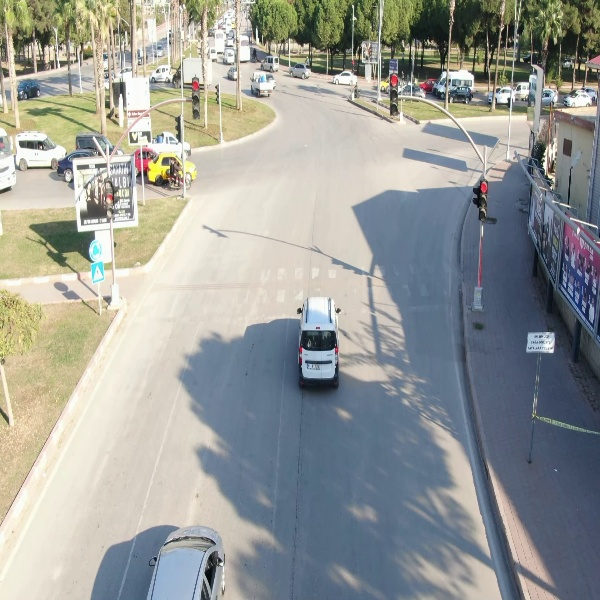car: (294, 294, 343, 397), (14, 129, 66, 171), (147, 62, 174, 88), (16, 76, 42, 101), (448, 83, 475, 106), (331, 69, 360, 89), (562, 90, 594, 108), (259, 54, 282, 74), (289, 62, 313, 81)
